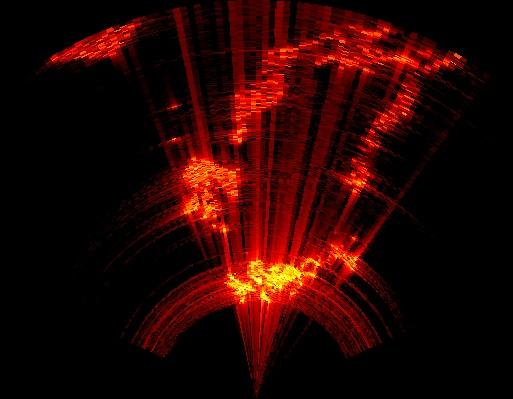shipwreck: (229, 32, 460, 143), (226, 258, 320, 302), (364, 81, 417, 149), (183, 157, 239, 219), (50, 29, 122, 62), (336, 155, 370, 204), (329, 244, 359, 271)
